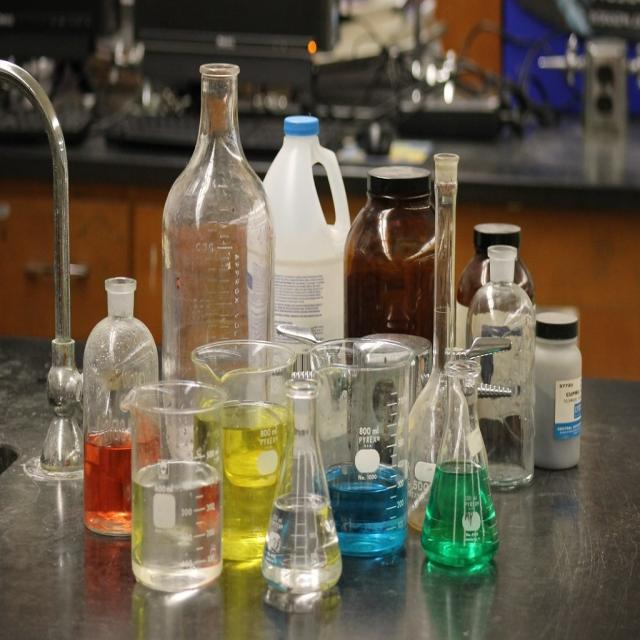Medical Waste: (20, 49, 602, 611)
